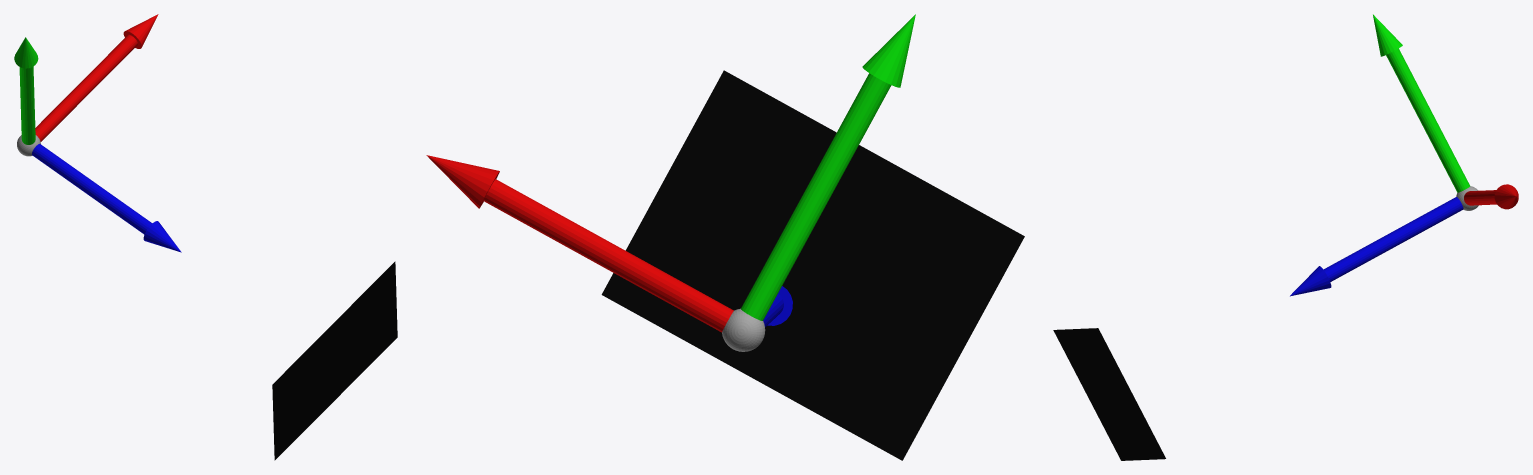
The picture shows the model from 3 angles, left to right: view 1: azimuth 30°, elevation 25°; view 2: azimuth 150°, elevation 25°; view 3: azimuth 270°, elevation 25°; orthographic projection. The views are drawn at different scales.
Size of the model in its own units: 0.1964 by 0.2521 by 0.2786.
